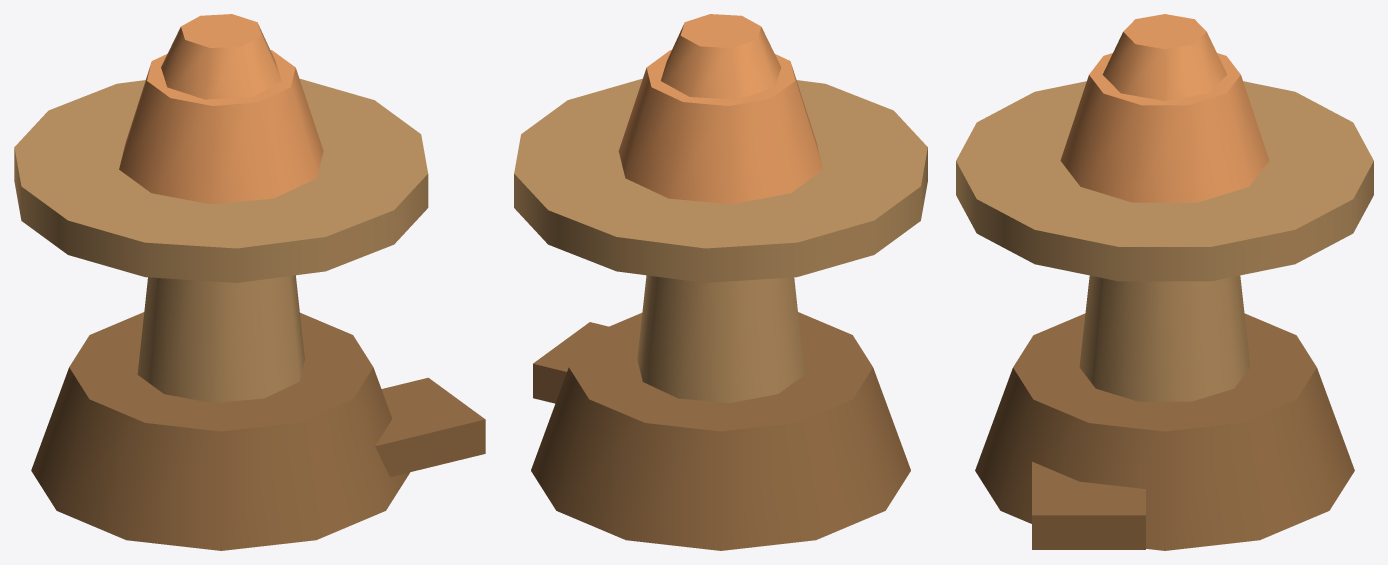
File: pottery_wheel.glb
The picture shows the model from 3 angles, left to right: view 1: azimuth 30°, elevation 25°; view 2: azimuth 150°, elevation 25°; view 3: azimuth 270°, elevation 25°; orthographic projection.
Parts seen in each view (by area): view 1: pottery_wheel; view 2: pottery_wheel; view 3: pottery_wheel.
Boxes of the visible parts, x1,y1,x2,y2 form: pottery_wheel: [14, 14, 485, 550]; pottery_wheel: [514, 14, 927, 550]; pottery_wheel: [956, 14, 1373, 550].
Size of the model in its own units: 22.72 by 25.5 by 22.
